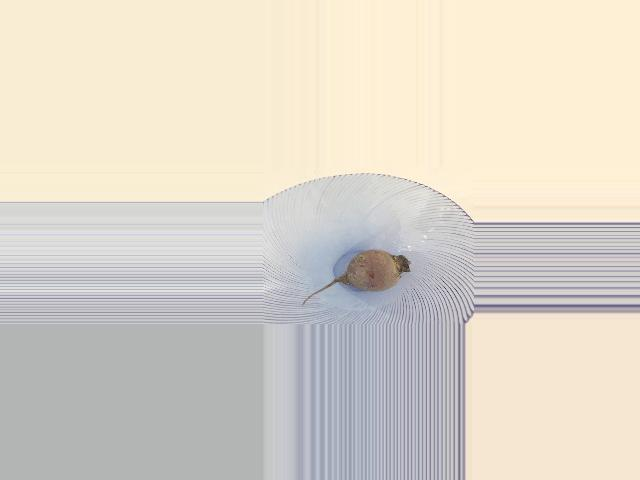beet: (302, 250, 410, 306)
